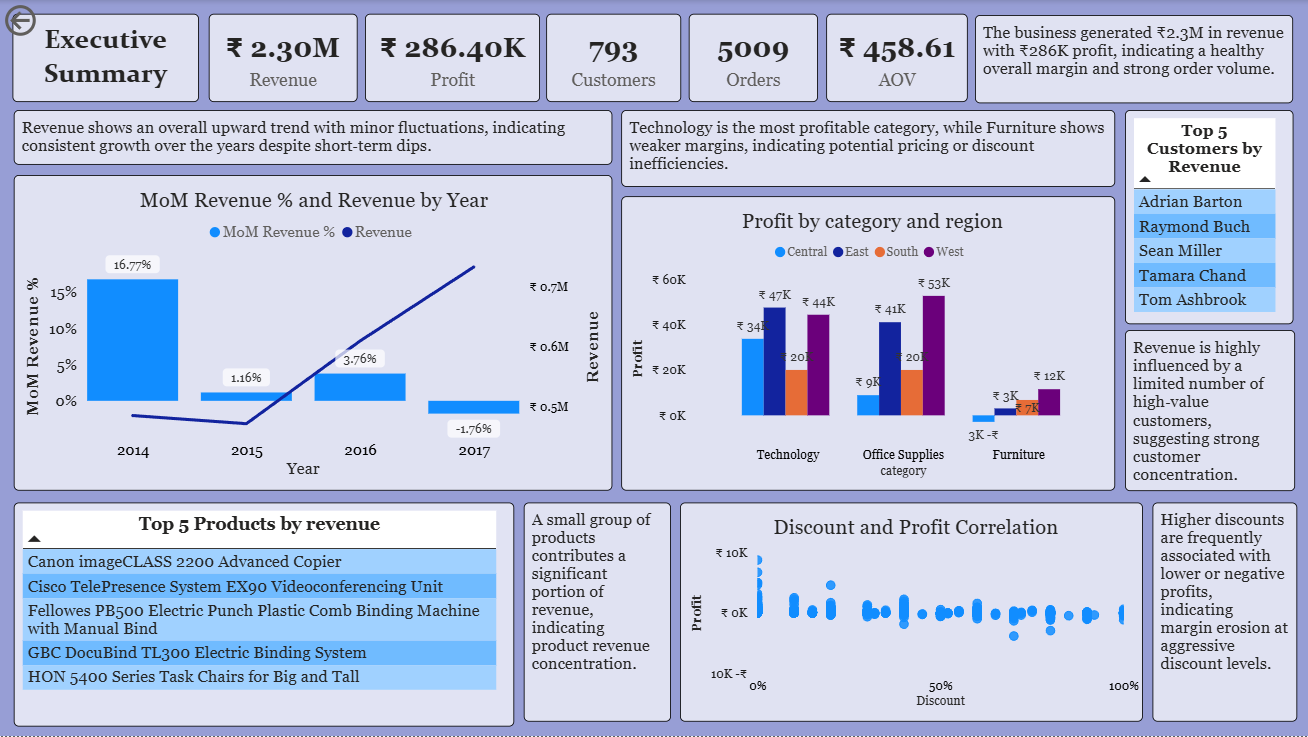

The dashboard page shown, as its layout file describes it:
{"tool":"powerbi","page":{"name":"Page 1","canvas":[1280,720],"ordinal":0},"visuals":[{"type":"textbox","box":[12.3,13.7,182.5,86.4],"z":0},{"type":"card","fields":{"Values":["Measures (2).Revenue"]},"box":[204.5,13.7,145.5,86.4],"z":1000},{"type":"card","fields":{"Values":["Measures (2).Profit"]},"box":[356.8,13.7,171.5,86.4],"z":2000},{"type":"card","fields":{"Values":["Measures (2).Customers"]},"box":[533.8,13.7,131.7,86.4],"z":3000},{"type":"card","fields":{"Values":["Measures (2).Orders"]},"box":[673.8,13.7,126.2,86.4],"z":4000},{"type":"card","fields":{"Values":["Measures (2).AOV"]},"box":[808.2,13.7,138.6,86.4],"z":5000},{"type":"tableEx","fields":{"Values":["superstore v_dim_product.product_name"]},"box":[13.7,491.3,489.9,219.6],"z":6000},{"type":"tableEx","fields":{"Values":["superstore v_dim_customer.customer_name"]},"box":[1100.5,107,164.7,209.9],"z":7000},{"type":"clusteredColumnChart","fields":{"Y":["Measures (2).Profit"],"Category":["superstore v_dim_product.category"],"Series":["superstore v_dim_geography.region"]},"box":[607.9,192.1,483,288.2],"z":8000},{"type":"actionButton","box":[0,0,100,40],"z":9000},{"type":"lineStackedColumnComboChart","fields":{"Y":["Measures (2).MoM Revenue %"],"Y2":["Measures (2).Revenue"],"Category":["Date.Year","Date.Month Name"]},"box":[13.7,171.5,585.9,308.7],"z":10000},{"type":"scatterChart","title":"Discount and Profit Correlation","fields":{"X":["superstore v_fact_sales.discount"],"Y":["superstore v_fact_sales.profit"],"Category":["superstore v_fact_sales.order_id"]},"box":[665.5,491.3,452.8,214.1],"z":11000},{"type":"textbox","box":[953.7,15.1,311.5,86.4],"z":12000},{"type":"textbox","box":[13.7,107,585.9,53.5],"z":13000},{"type":"textbox","box":[607.9,107,483,75.5],"z":14000},{"type":"textbox","box":[511.8,491.3,144.1,214.1],"z":15000},{"type":"textbox","box":[1100.5,322.5,166,157.8],"z":16000},{"type":"textbox","box":[1128,491.3,141.3,214.1],"z":17000}]}

Visuals, with their boxes in screenshot pixels (x1, y1, x2, y2), scaled from the page's 1280x720 canvas onto the 1308x737 screenshot:
textbox: BBox(13, 14, 199, 102)
card - Measures (2).Revenue: BBox(209, 14, 358, 102)
card - Measures (2).Profit: BBox(365, 14, 540, 102)
card - Measures (2).Customers: BBox(545, 14, 680, 102)
card - Measures (2).Orders: BBox(689, 14, 818, 102)
card - Measures (2).AOV: BBox(826, 14, 968, 102)
tableEx - superstore v_dim_product.product_name: BBox(14, 503, 515, 728)
tableEx - superstore v_dim_customer.customer_name: BBox(1125, 110, 1293, 324)
clusteredColumnChart - Measures (2).Profit x superstore v_dim_product.category: BBox(621, 197, 1115, 492)
actionButton: BBox(0, 0, 102, 41)
lineStackedColumnComboChart - Measures (2).MoM Revenue % x Measures (2).Revenue: BBox(14, 176, 613, 492)
"Discount and Profit Correlation" scatterChart: BBox(680, 503, 1143, 722)
textbox: BBox(975, 15, 1293, 104)
textbox: BBox(14, 110, 613, 164)
textbox: BBox(621, 110, 1115, 187)
textbox: BBox(523, 503, 670, 722)
textbox: BBox(1125, 330, 1294, 492)
textbox: BBox(1153, 503, 1297, 722)
